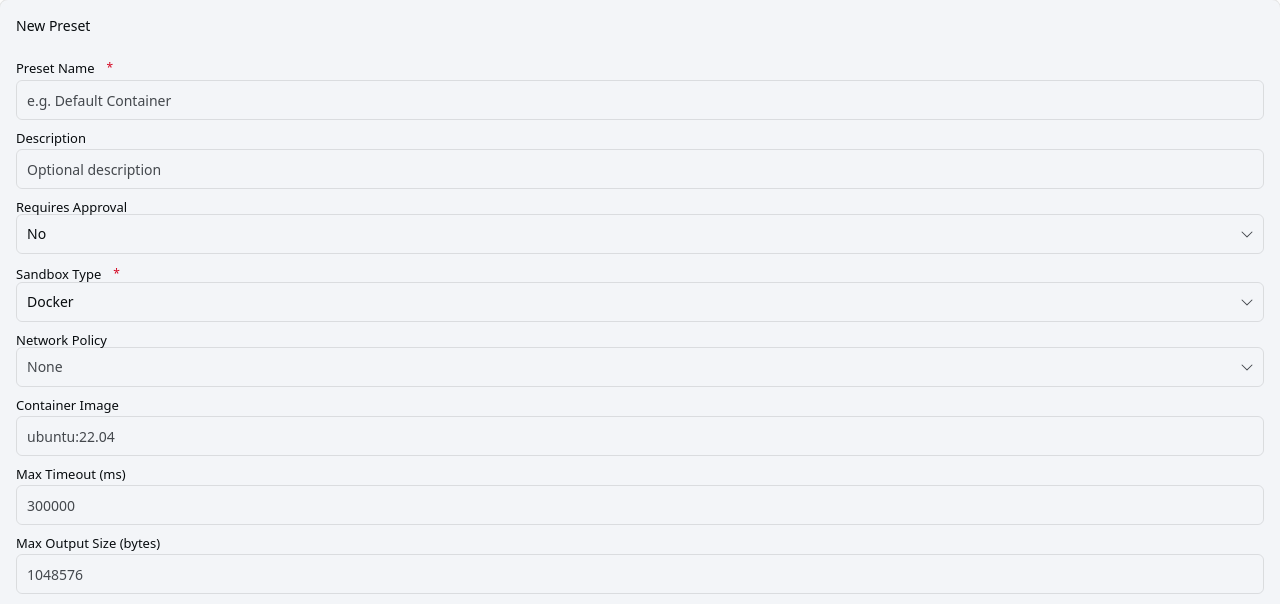
SandboxConfigForm › switching network mode dynamically › should reveal allow-list host entries when selecting Allow List
Expected: the text "External Hosts" is not shown
Click the dropdown named "Network Policy" at (45, 366), box top-left (16, 347), bottom-right (1264, 387)
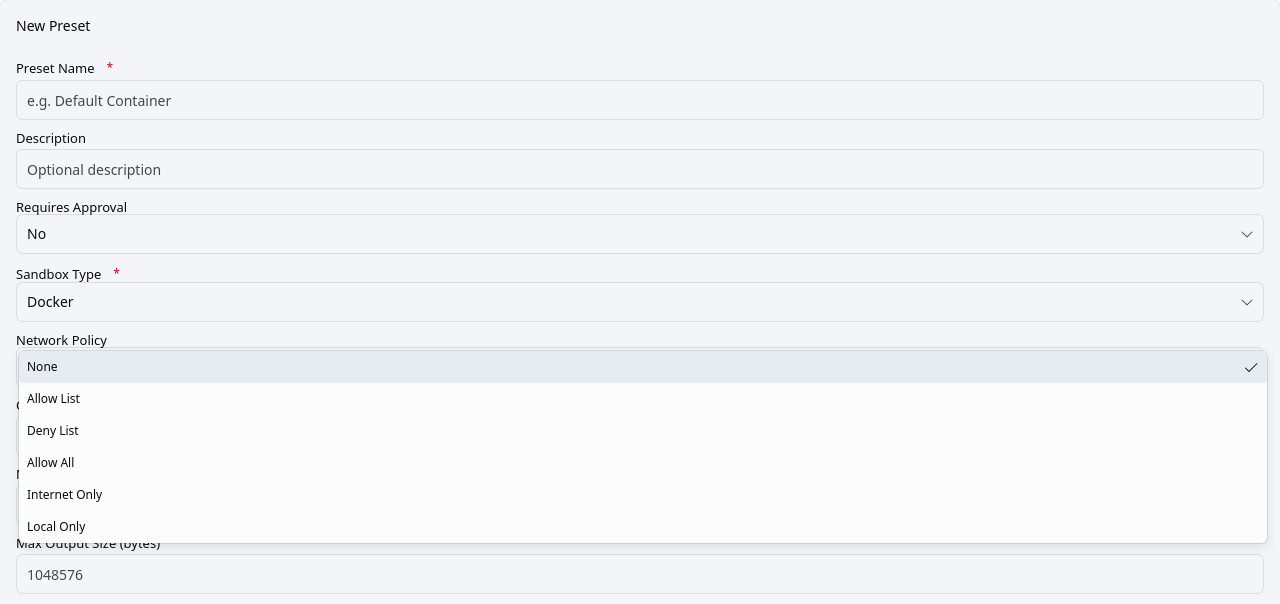
Click the option "Allow List" at (53, 398), box top-left (27, 390), bottom-right (80, 407)
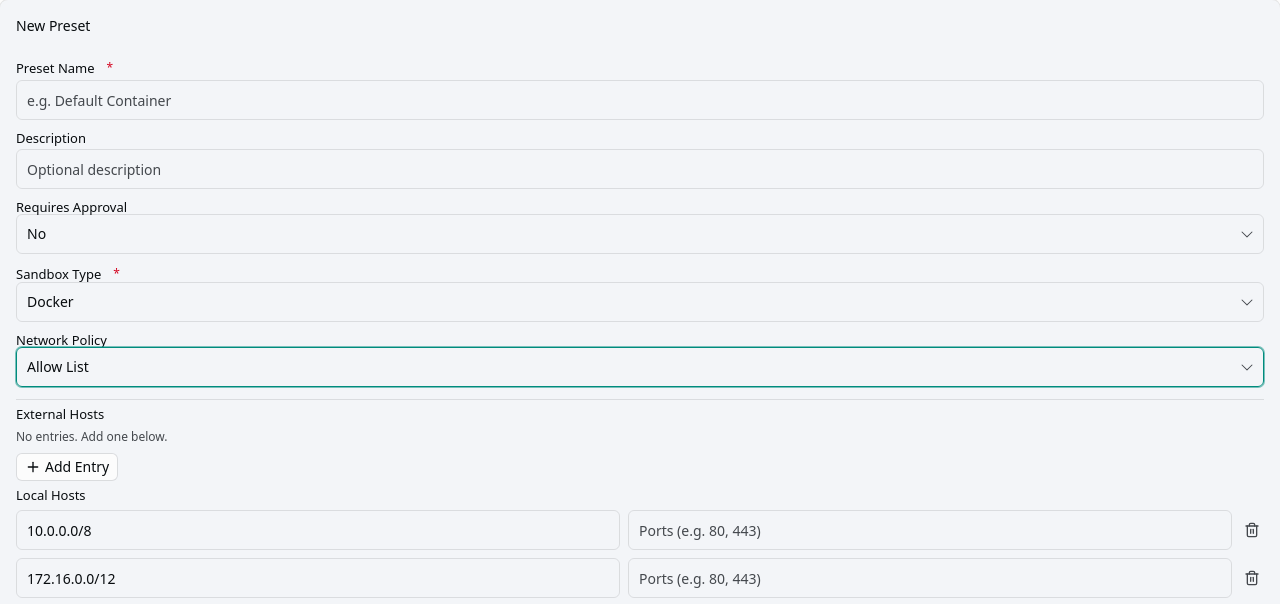
Expected: the list is gone
Expected: the text "External Hosts" is shown, top-left (16, 405), bottom-right (104, 423)
